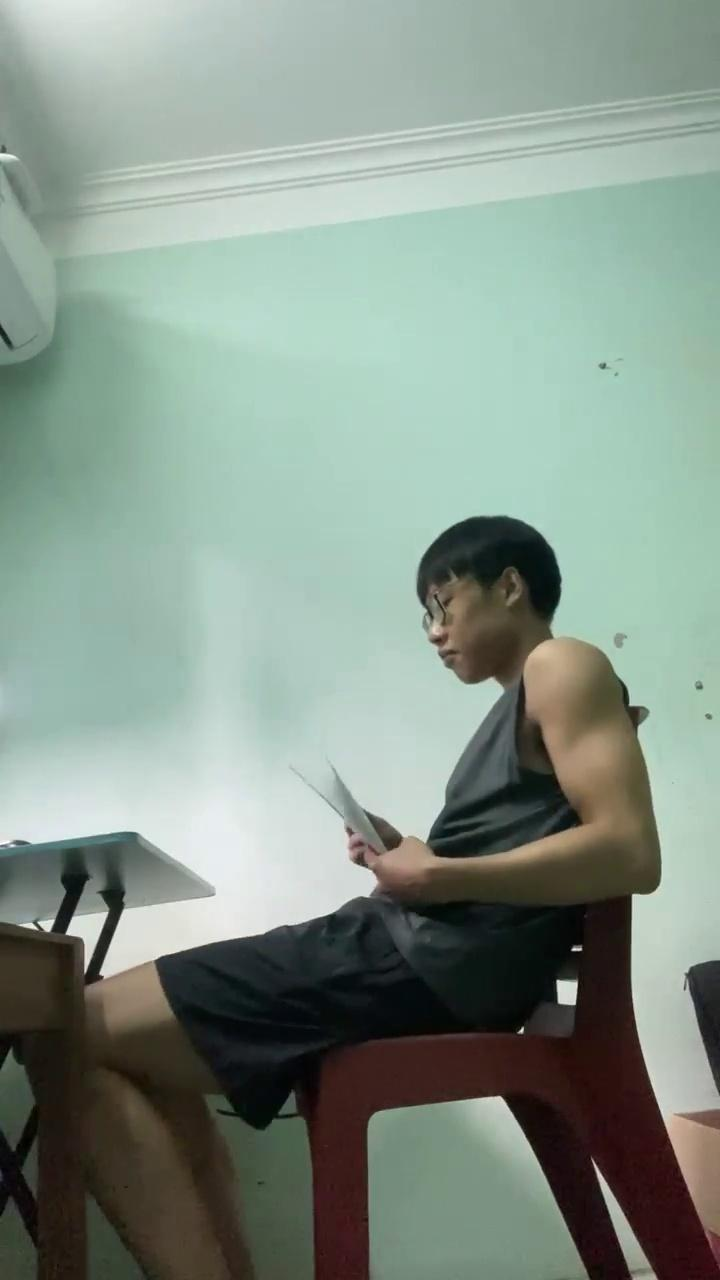BadPosture: (73, 514, 660, 1279)
